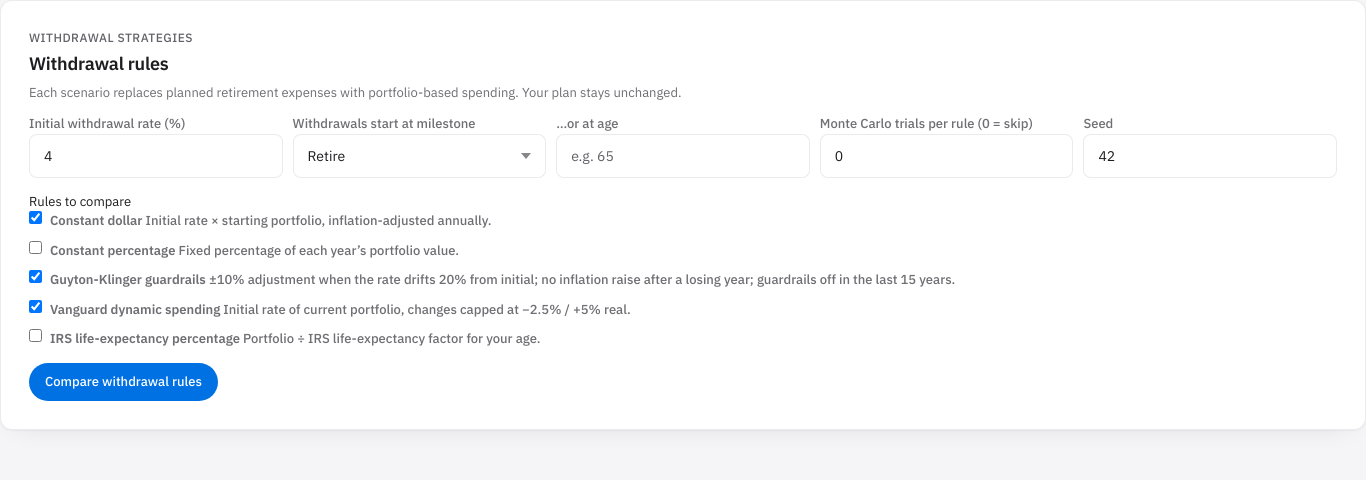
Test: WithdrawalStrategiesPanel › reports comparison failures
In the number field labelled "…or at age": [683, 156] box [556, 134, 810, 178], type "65"
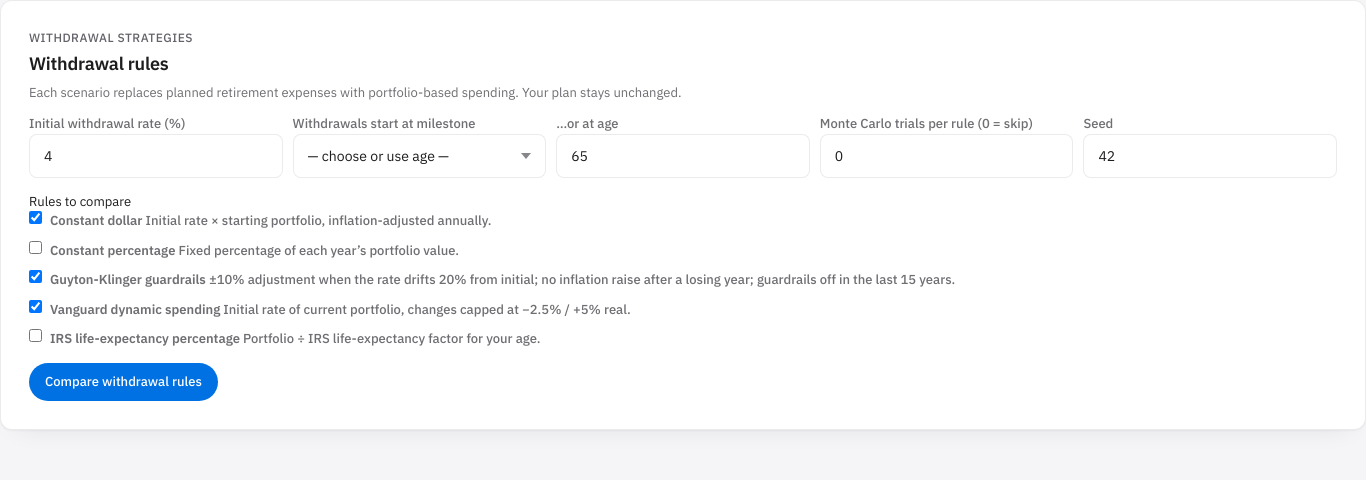
Click the button "Compare withdrawal rules": [123, 382] box [29, 363, 218, 401]
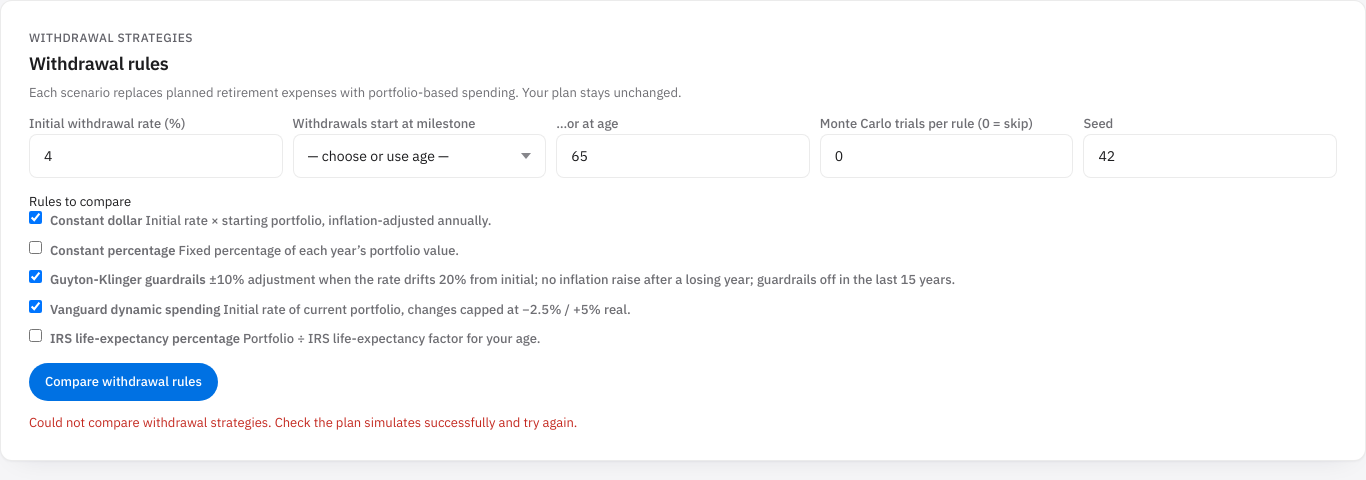
Expected: the message shows "Could not compare", [29, 414, 577, 431]
